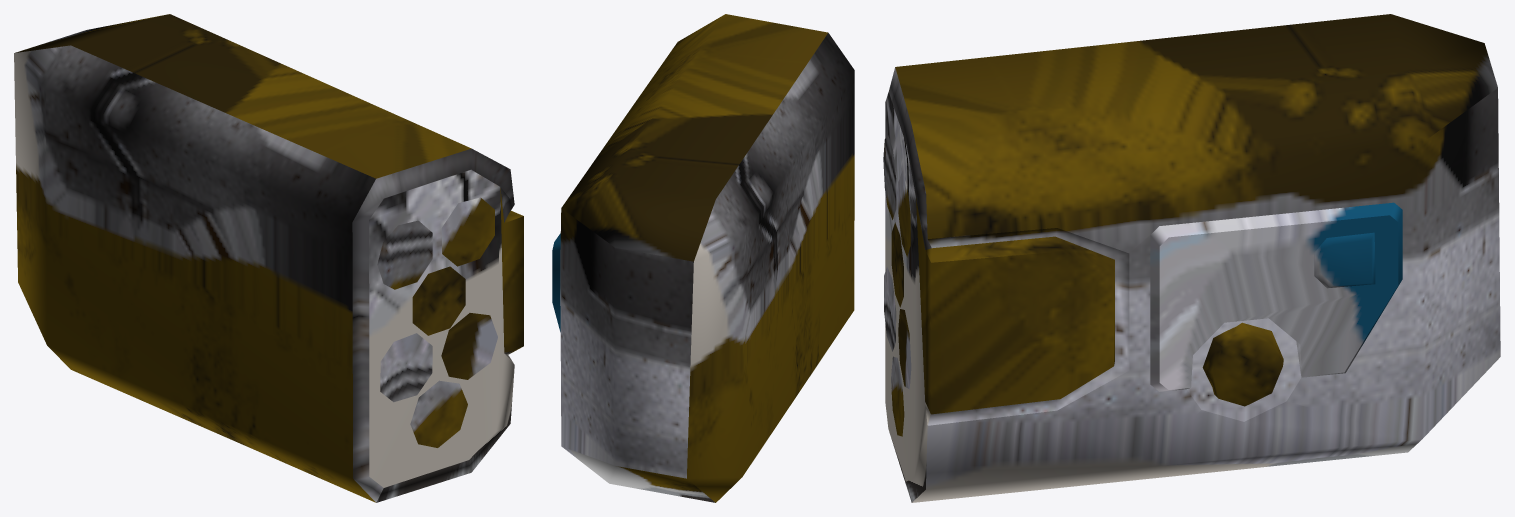
Rendered from ME_Rocket_cannon.fbx.
3 views of the same model, side by side, from view 1: azimuth 30°, elevation 25°; view 2: azimuth 150°, elevation 25°; view 3: azimuth 270°, elevation 25° (orthographic). The views are drawn at different scales.
Parts seen in each view (by area): view 1: ME_Rocket_cannon; view 2: ME_Rocket_cannon; view 3: ME_Rocket_cannon.
Boxes of the visible parts, left/top/right/bottom form: ME_Rocket_cannon: left=14, top=14, right=523, bottom=502; ME_Rocket_cannon: left=552, top=14, right=854, bottom=502; ME_Rocket_cannon: left=883, top=14, right=1500, bottom=502.
Bounding box in the file's own units: 48.67 × 53.4 × 79.03.
